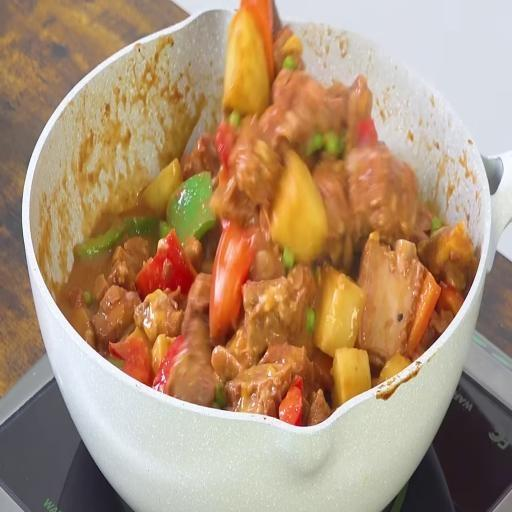pork caldereta: (64, 72, 487, 416)
